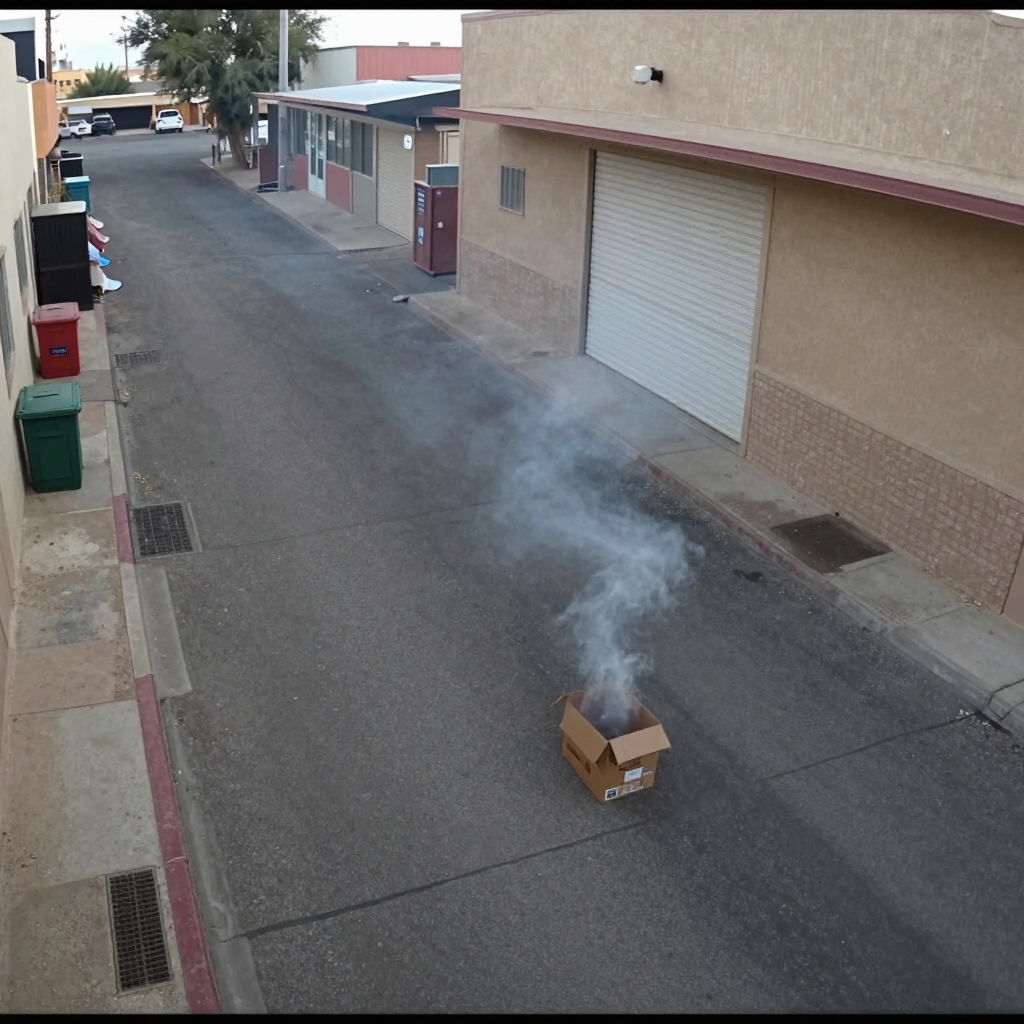Explosion: (426, 323, 684, 719)
